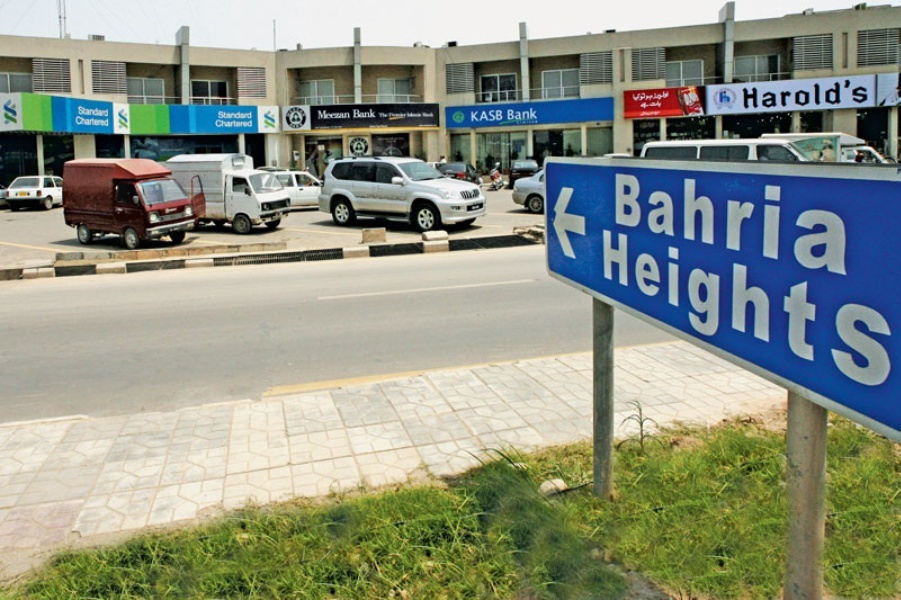text: (609, 228, 624, 409), (625, 228, 640, 409), (641, 228, 656, 409), (657, 228, 672, 409), (673, 228, 688, 409), (689, 228, 704, 409), (705, 228, 720, 409), (721, 228, 736, 409), (737, 228, 752, 409), (753, 228, 768, 409), (769, 228, 784, 409), (785, 228, 800, 409), (801, 228, 816, 409), (817, 228, 832, 409), (833, 228, 848, 409), (849, 228, 864, 409), (865, 228, 880, 409), (881, 228, 895, 409), (833, 170, 849, 277), (625, 170, 640, 277), (641, 170, 656, 277), (657, 170, 672, 277), (673, 170, 688, 277), (689, 170, 704, 277), (705, 170, 720, 277), (721, 170, 736, 277), (737, 170, 752, 277), (753, 170, 768, 277), (769, 170, 784, 277), (785, 170, 800, 277), (801, 170, 816, 277), (817, 170, 832, 277), (601, 228, 608, 409), (614, 170, 624, 277), (753, 77, 768, 110), (769, 77, 784, 110), (785, 77, 800, 110), (801, 77, 816, 110), (817, 77, 832, 110), (833, 77, 848, 110), (849, 77, 864, 110), (743, 77, 752, 110), (81, 114, 96, 128), (513, 107, 528, 121), (97, 114, 111, 128), (81, 106, 96, 118), (481, 110, 496, 122), (641, 91, 656, 102), (657, 91, 672, 102), (865, 77, 870, 110), (97, 106, 110, 118), (321, 110, 336, 120), (337, 110, 352, 120), (353, 109, 368, 119), (529, 107, 539, 121), (225, 111, 240, 120), (225, 120, 240, 128), (641, 101, 656, 109), (641, 110, 656, 118), (721, 91, 731, 103), (241, 120, 255, 128), (241, 111, 253, 120), (471, 110, 480, 122), (401, 112, 416, 119), (417, 112, 432, 119), (631, 91, 640, 102), (369, 109, 378, 119), (389, 112, 400, 119), (497, 110, 503, 122), (75, 114, 80, 128), (507, 107, 512, 121), (217, 111, 224, 120), (217, 120, 224, 128), (657, 101, 664, 109), (378, 112, 384, 119), (657, 110, 662, 118), (77, 106, 80, 118), (385, 112, 390, 119), (433, 112, 437, 119), (718, 91, 720, 103), (318, 110, 320, 120), (639, 101, 640, 109)
